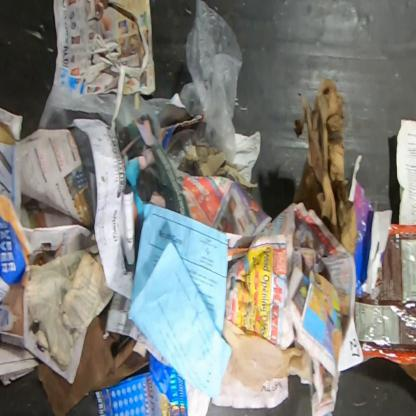cardboard: (292, 76, 357, 258)
soft_plastic: (179, 0, 244, 167), (354, 223, 415, 366), (222, 316, 312, 397), (348, 154, 392, 299), (37, 84, 117, 130), (115, 92, 171, 145)
